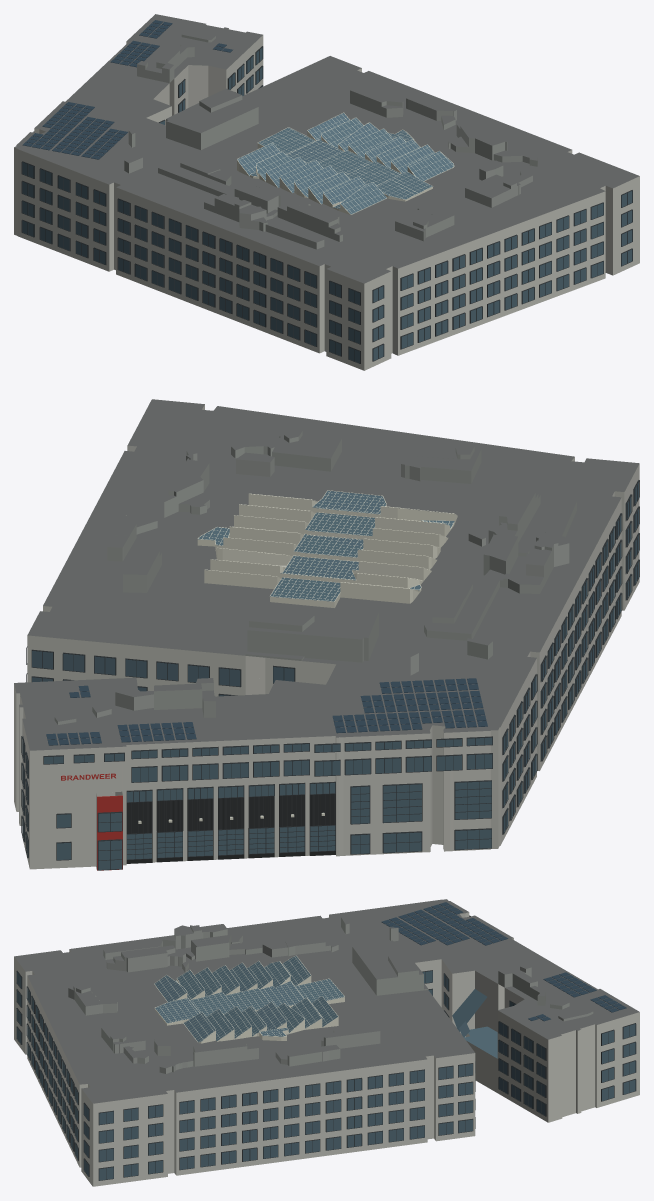
File: fire-station-willem.glb
3 views of the same model, one above another, from view 1: azimuth 30°, elevation 25°; view 2: azimuth 150°, elevation 25°; view 3: azimuth 270°, elevation 25° (orthographic). The views are drawn at different scales.
Visible parts, largest first — view 1: fire-station-willem; view 2: fire-station-willem; view 3: fire-station-willem.
Part boxes in pixels (x1,y1,x2,y2): fire-station-willem: (14, 14, 639, 370); fire-station-willem: (14, 399, 639, 870); fire-station-willem: (14, 899, 639, 1186).
Bounding box in the file's own units: 94.51 × 22.29 × 122.
